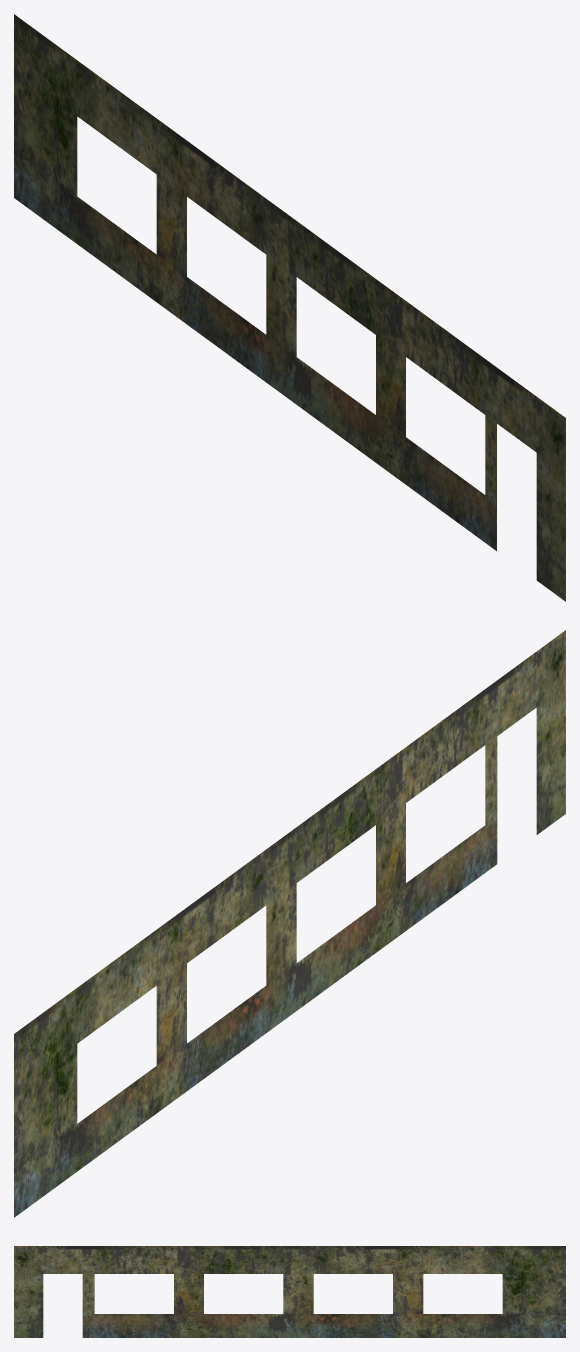
File: Wall_08.FBX
3 views of the same model, one above another, from view 1: azimuth 30°, elevation 25°; view 2: azimuth 150°, elevation 25°; view 3: azimuth 270°, elevation 25° (orthographic). The views are drawn at different scales.
Parts seen in each view (by area): view 1: Wall_08; view 2: Wall_08; view 3: Wall_08.
Part boxes in pixels (x1=…): Wall_08: x1=14, y1=14, x2=565, y2=601; Wall_08: x1=14, y1=630, x2=565, y2=1217; Wall_08: x1=14, y1=1246, x2=565, y2=1337.
Bounding box in the file's own units: 0.0115 × 320 × 1741.
